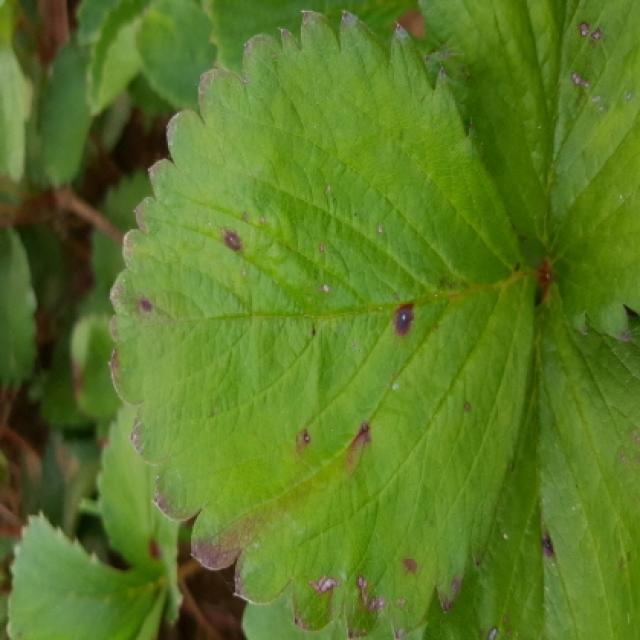Leaf Spot: (107, 8, 541, 638), (417, 288, 638, 638), (413, 0, 638, 342), (95, 404, 184, 625)
